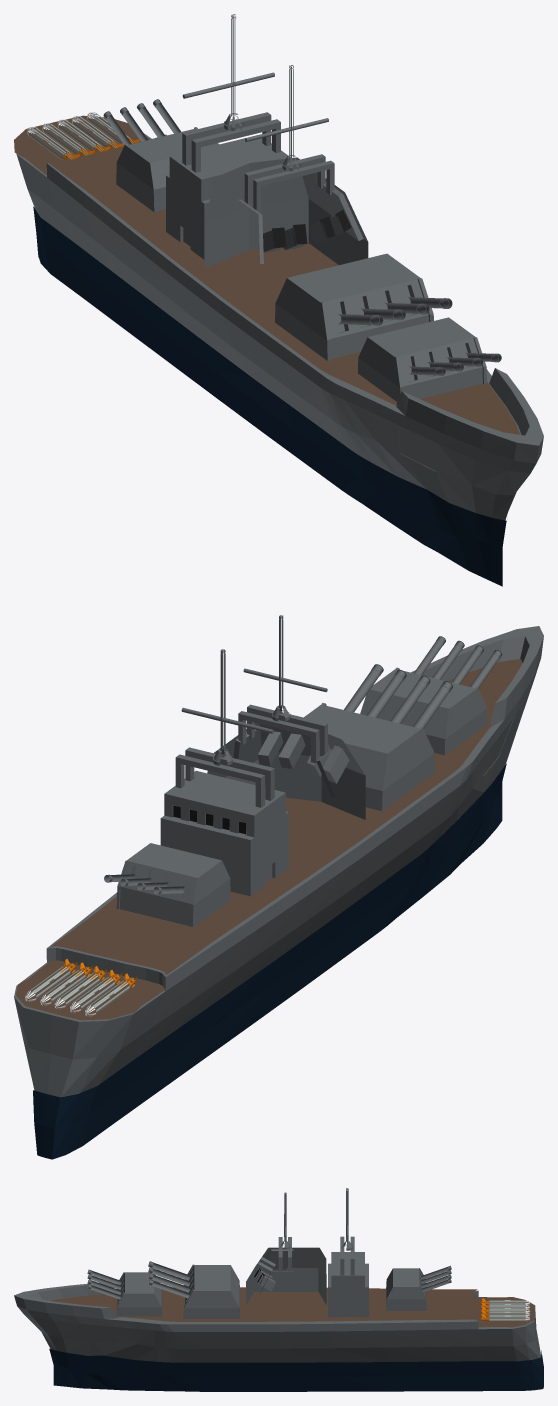
Rendered from Battleship.glb.
3 renders of one model, top to bottom at view 1: azimuth 30°, elevation 25°; view 2: azimuth 150°, elevation 25°; view 3: azimuth 270°, elevation 25°, orthographic. The views are drawn at different scales.
Parts seen in each view (by area): view 1: deck; view 2: deck; view 3: deck.
Boxes of the visible parts, x1=… form: deck: x1=14, y1=14, x2=543, y2=586; deck: x1=14, y1=615, x2=543, y2=1159; deck: x1=14, y1=1188, x2=543, y2=1391.
Size of the model in its own units: 0.7109 by 1.82 by 4.36.
